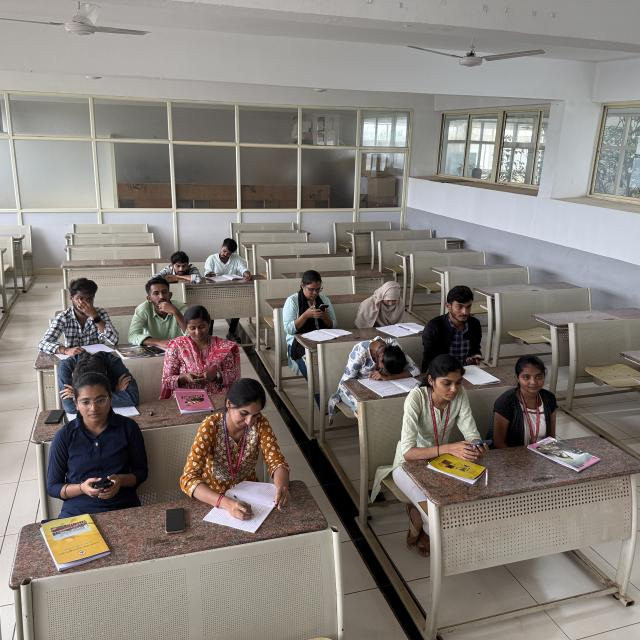Reading: (355, 278, 422, 336), (203, 237, 252, 280)
Sleeping: (48, 348, 145, 404), (334, 336, 427, 394), (150, 247, 204, 284)
Using Phone: (45, 372, 150, 509), (392, 356, 498, 480), (163, 304, 241, 396), (425, 283, 489, 371), (274, 266, 343, 344)
Writing: (184, 381, 293, 532), (42, 278, 120, 360)
